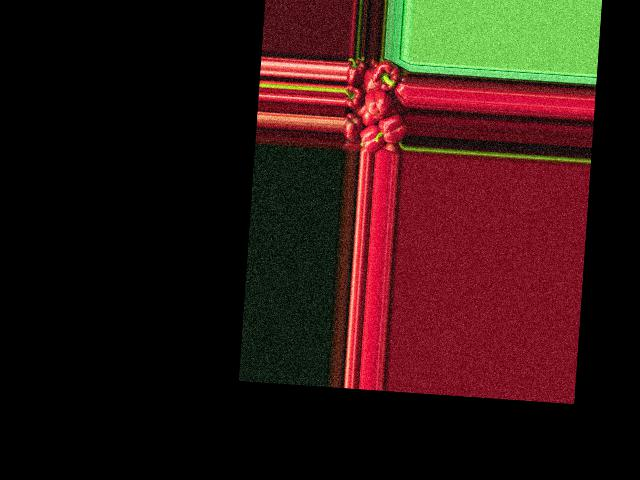bell_pepper: (346, 57, 366, 84)
